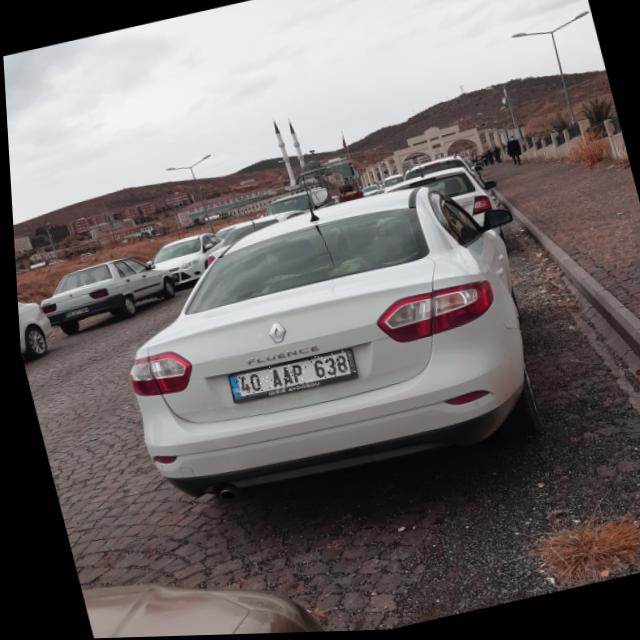license_plate: (224, 350, 352, 401)
